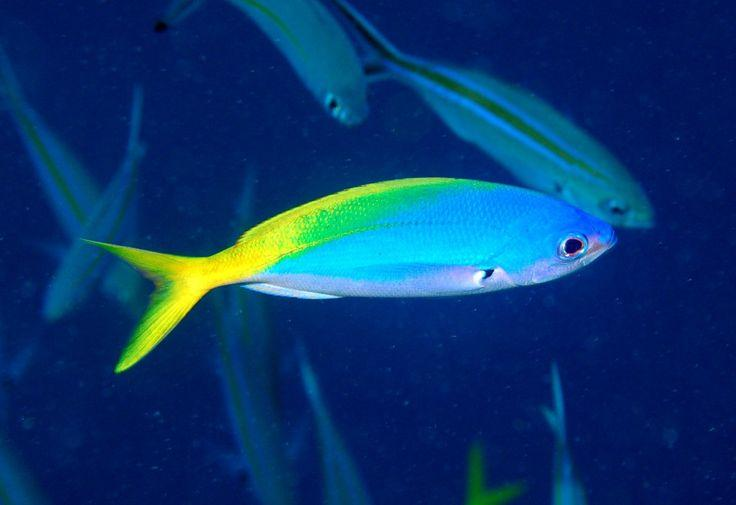fish: (76, 176, 615, 375), (329, 0, 654, 230), (0, 51, 146, 318), (151, 0, 369, 125), (45, 85, 147, 324), (207, 285, 288, 505), (294, 336, 372, 505), (542, 358, 589, 505)
